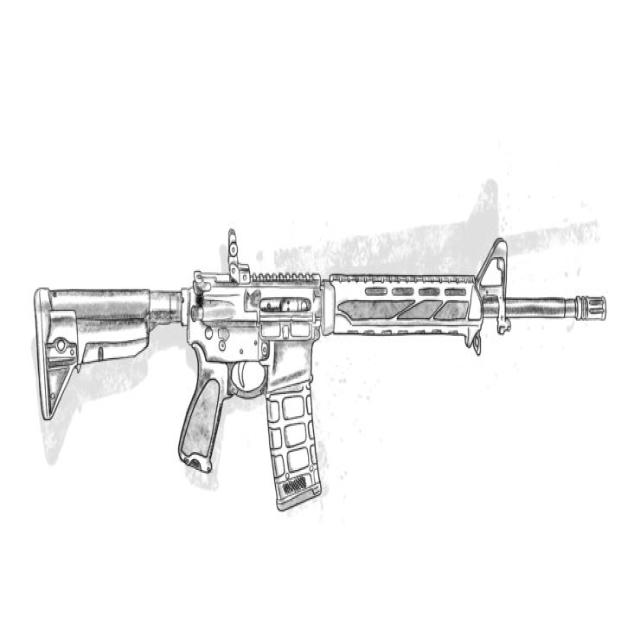Rifle: (34, 229, 608, 513)
